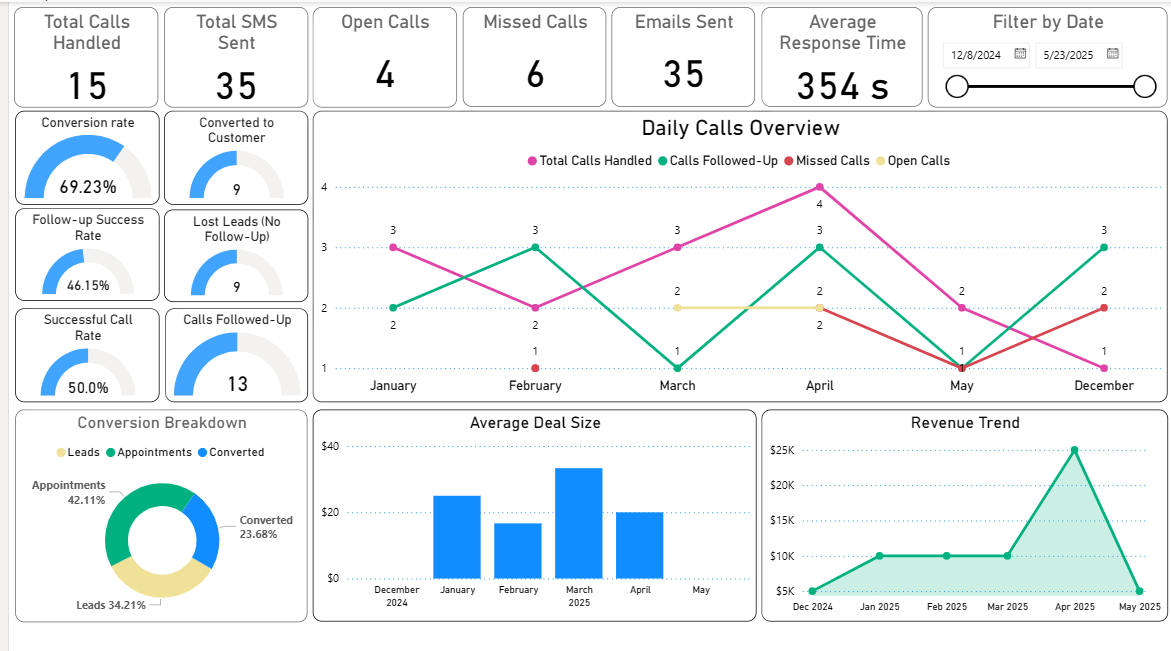

The page's visual inventory and layout, read from the dashboard file:
{"tool":"powerbi","page":{"name":"UI Dashboard","canvas":[1280,720],"ordinal":0},"visuals":[{"type":"lineChart","title":"Daily Calls Overview","fields":{"Y":["measures_.Total Calls Handled","measures_.Calls Followed-Up","measures_.Missed Calls","measures_.Open Calls"],"Category":["calls.Date & Time.Variation.Date Hierarchy.Month","calls.Date & Time.Variation.Date Hierarchy.Day"]},"box":[333.3,120,938.3,320],"z":1000},{"type":"donutChart","title":"Conversion Breakdown","fields":{"Y":["measures_.Leads Generated","measures_.Scheduled Appointments","measures_.Converted Customers"]},"box":[6.9,447.3,321.1,233.3],"z":2000},{"type":"card","title":"Total Calls Handled","fields":{"Values":["measures_.Total Calls Handled"]},"box":[6,5,158.6,110],"z":3000},{"type":"gauge","title":"Calls Followed-Up","fields":{"Y":["measures_.Calls Followed-Up"]},"box":[171.7,336,156.7,103.3],"z":4000},{"type":"card","title":"Open Calls","fields":{"Values":["measures_.Open Calls"]},"box":[334,5,158,110],"z":5000},{"type":"gauge","title":"Successful Call Rate","fields":{"Y":["measures_.Successful Call Rate"]},"box":[6.7,336,158.3,103.3],"z":6000},{"type":"card","title":"Missed Calls","fields":{"Values":["measures_.Missed Calls"]},"box":[498,5,157.8,109.8],"z":7000},{"type":"gauge","title":"Follow-up Success Rate","fields":{"Y":["measures_.Follow-up Success Rate"]},"box":[6.7,226.7,158.3,101.7],"z":8000},{"type":"card","title":"Average Response Time","fields":{"Values":["measures_.Average Response Time"]},"box":[826,5,177,109.8],"z":9000},{"type":"slicer","title":"Filter by Date","fields":{"Values":["calls.Date & Time"]},"box":[1008.3,5,263.3,110],"z":10000},{"type":"gauge","title":"Conversion rate","fields":{"Y":["measures_.Conversion Rate"]},"box":[6.7,120,158.3,103.3],"z":11000},{"type":"gauge","title":"Converted to Customer","fields":{"Y":["measures_.Converted Customers"]},"box":[170,120,158,103],"z":12000},{"type":"gauge","title":"Lost Leads      (No Follow-Up)","fields":{"Y":["measures_.Lost Leads"]},"box":[170,228.3,158.3,101.7],"z":13000},{"type":"card","title":"Emails Sent","fields":{"Values":["measures_.Emails Sent"]},"box":[662,5,157.8,109.8],"z":14000},{"type":"card","title":"Total SMS Sent","fields":{"Values":["measures_.Total SMS Sent"]},"box":[170,5,158,110],"z":15000},{"type":"areaChart","title":"Revenue Trend","fields":{"Category":["calls.Date & Time.Variation.Date Hierarchy.Year","calls.Date & Time.Variation.Date Hierarchy.Month"],"Y":["measures_.Revenue Generated"]},"box":[826.1,447.4,446.2,232.8],"z":16000},{"type":"textbox","box":[0,677.9,293.7,42.5],"z":17000},{"type":"clusteredColumnChart","title":"Average Deal Size","fields":{"Category":["calls.Date & Time.Variation.Date Hierarchy.Year","calls.Date & Time.Variation.Date Hierarchy.Month"],"Y":["measures_.Average Deal Size"]},"box":[332.9,447.4,487.2,232.8],"z":18000}]}

Visuals, with their boxes in screenshot pixels (x1, y1, x2, y2), scaled from the page's 1280x720 canvas onto the 1171x651 screenshot:
"Daily Calls Overview" lineChart: crop(305, 108, 1163, 398)
"Conversion Breakdown" donutChart: crop(6, 404, 300, 615)
"Total Calls Handled" card: crop(5, 5, 151, 104)
"Calls Followed-Up" gauge: crop(157, 304, 300, 397)
"Open Calls" card: crop(306, 5, 450, 104)
"Successful Call Rate" gauge: crop(6, 304, 151, 397)
"Missed Calls" card: crop(456, 5, 600, 104)
"Follow-up Success Rate" gauge: crop(6, 205, 151, 297)
"Average Response Time" card: crop(756, 5, 918, 104)
"Filter by Date" slicer: crop(922, 5, 1163, 104)
"Conversion rate" gauge: crop(6, 108, 151, 202)
"Converted to Customer" gauge: crop(156, 108, 300, 202)
"Lost Leads      (No Follow-Up)" gauge: crop(156, 206, 300, 298)
"Emails Sent" card: crop(606, 5, 750, 104)
"Total SMS Sent" card: crop(156, 5, 300, 104)
"Revenue Trend" areaChart: crop(756, 405, 1164, 615)
textbox: crop(0, 613, 269, 650)
"Average Deal Size" clusteredColumnChart: crop(305, 405, 750, 615)
